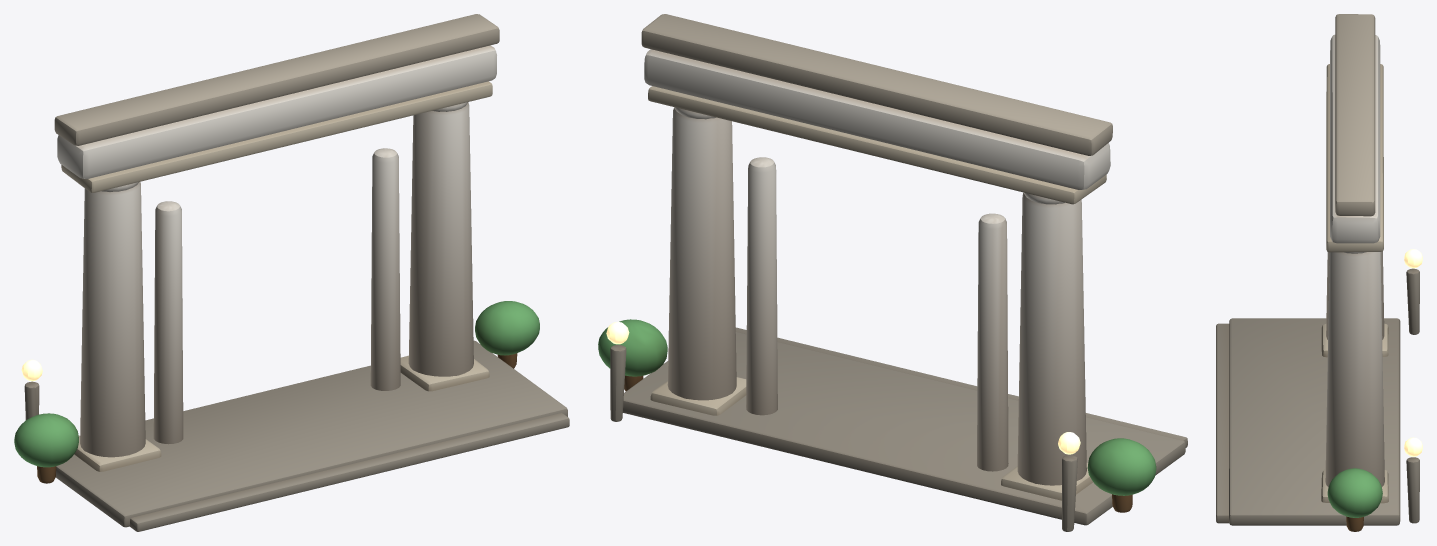
3 views of the same model, side by side, from view 1: azimuth 30°, elevation 25°; view 2: azimuth 150°, elevation 25°; view 3: azimuth 270°, elevation 25° (orthographic). The views are drawn at different scales.
Visible parts, largest first — view 1: gate_13d8a30f; view 2: gate_13d8a30f; view 3: gate_13d8a30f.
Part boxes in pixels (bbox=[...]): gate_13d8a30f: bbox=[14, 14, 569, 531]; gate_13d8a30f: bbox=[598, 14, 1187, 531]; gate_13d8a30f: bbox=[1216, 14, 1422, 531].
Bounding box in the file's own units: 6.69 × 4.36 × 2.54.
